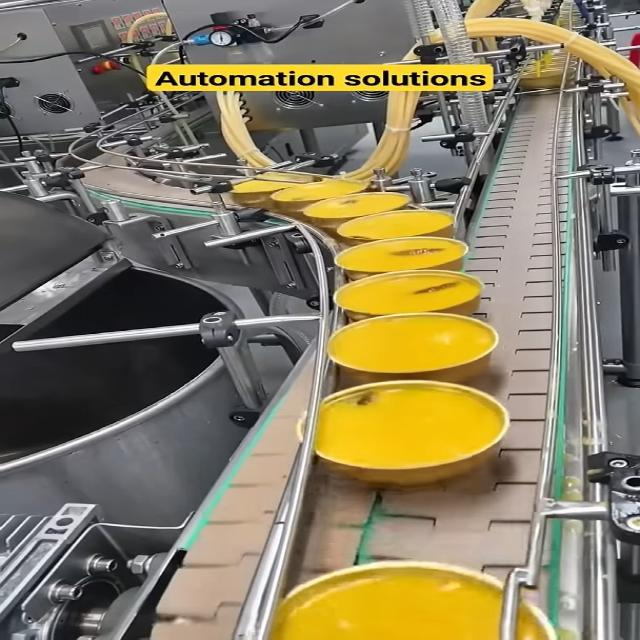cup: (272, 376, 536, 489), (236, 559, 592, 640), (298, 312, 520, 386), (318, 265, 501, 320), (325, 233, 481, 280), (288, 188, 430, 228), (329, 209, 472, 243), (218, 168, 324, 208), (266, 180, 382, 208)
